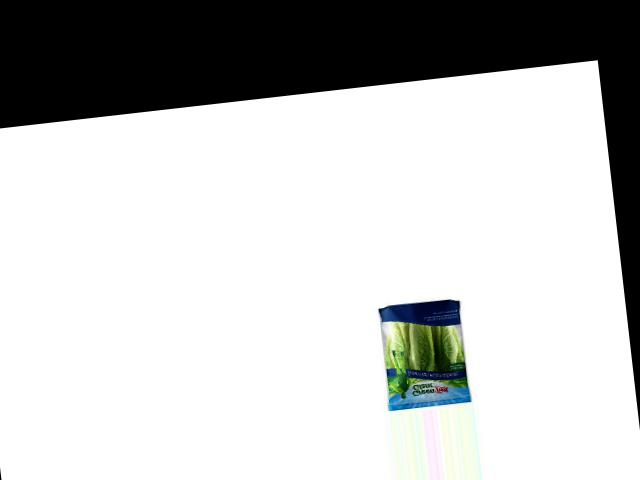lettuce: (374, 293, 471, 406)
